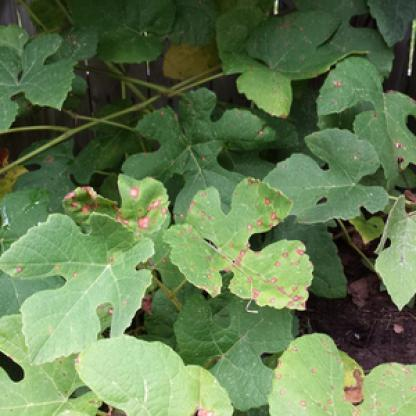grape leaf: (2, 215, 152, 370), (170, 182, 314, 314), (316, 60, 414, 192), (269, 330, 415, 415), (242, 11, 342, 75)
